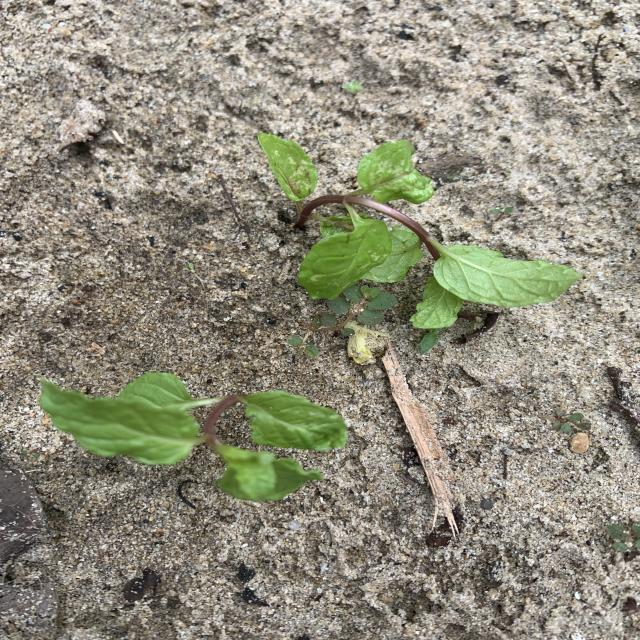crop: (258, 133, 581, 329), (43, 372, 343, 500)
weed: (287, 284, 397, 356), (606, 523, 640, 559), (552, 410, 591, 435), (342, 80, 363, 95)
